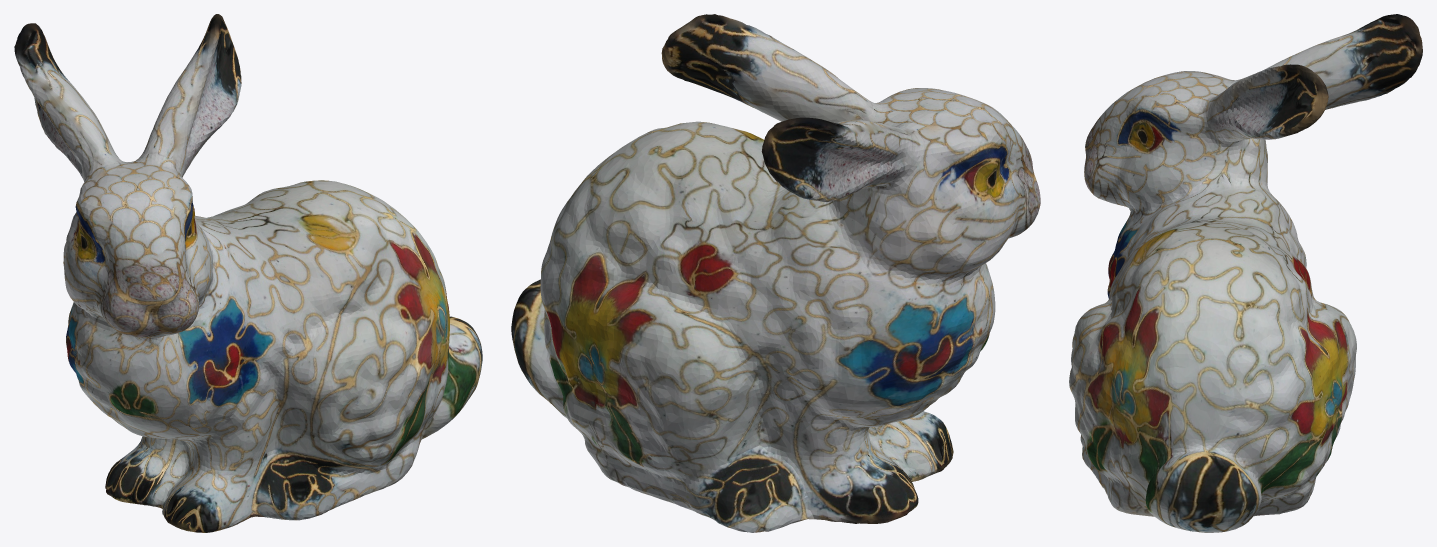
Rendered from scaled_down_bunny.obj.
The picture shows the model from 3 angles, left to right: view 1: azimuth 30°, elevation 25°; view 2: azimuth 150°, elevation 25°; view 3: azimuth 270°, elevation 25°; orthographic projection. The views are drawn at different scales.
Parts seen in each view (by area): view 1: bunny; view 2: bunny; view 3: bunny.
Part boxes in pixels (<box>): bunny: <box>14,14,482,532</box>; bunny: <box>511,14,1040,532</box>; bunny: <box>1069,14,1422,532</box>.
Bounding box in the file's own units: 0.25 × 0.2476 × 0.1937.
Materials: 1 (1 with a texture image).
